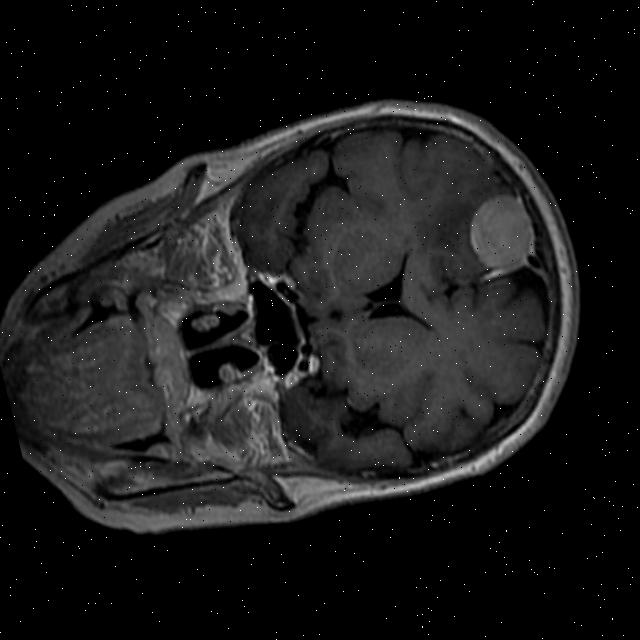Meningioma: (462, 186, 543, 276)
